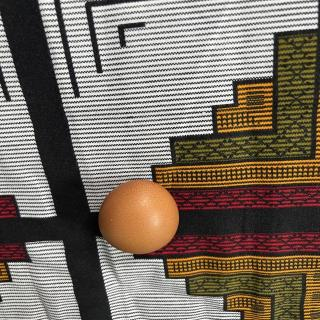Telur: (97, 177, 183, 259)
